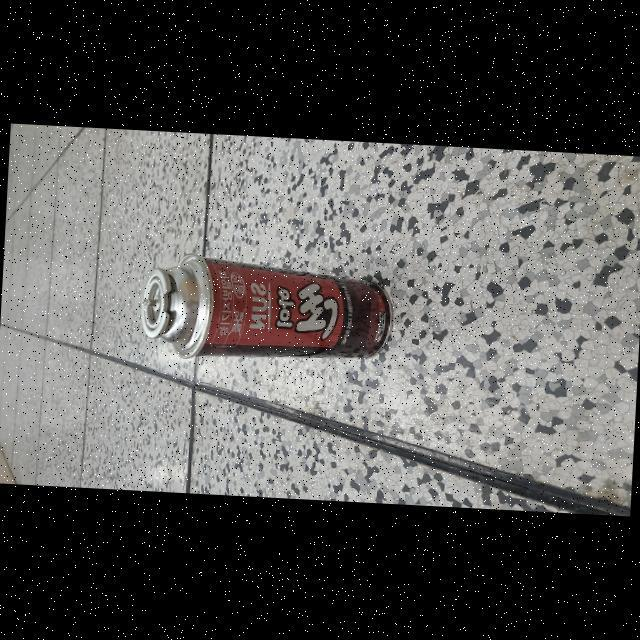chemical_spray_can: (124, 243, 416, 385)
